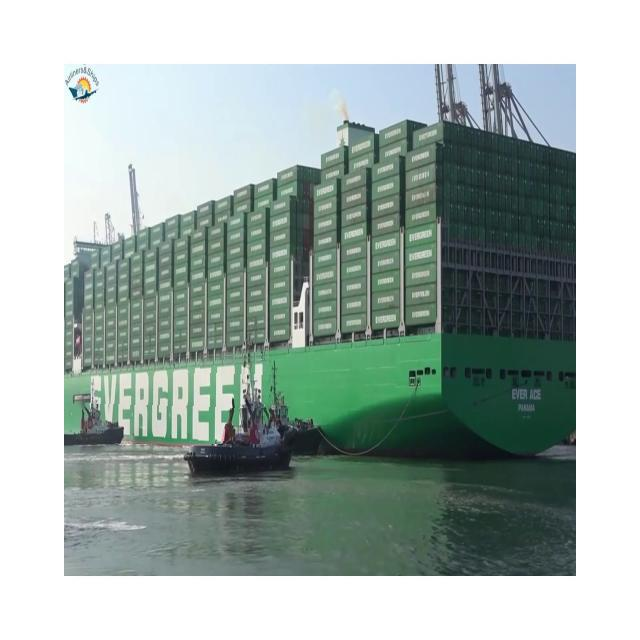OCR: (82, 352, 271, 444), (506, 379, 546, 418)
